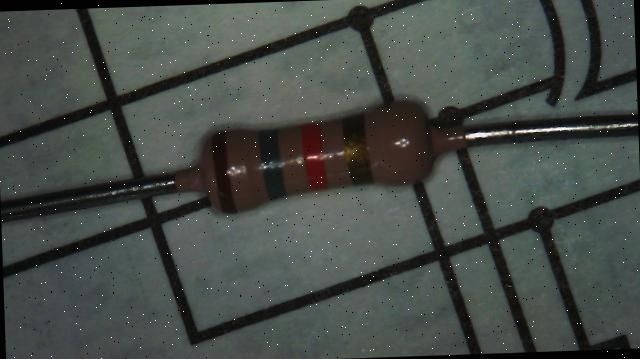brown: (214, 130, 230, 208)
gold: (344, 114, 370, 180)
grey: (260, 130, 280, 194)
orange: (306, 122, 322, 188)
resistor: (166, 78, 476, 234)
